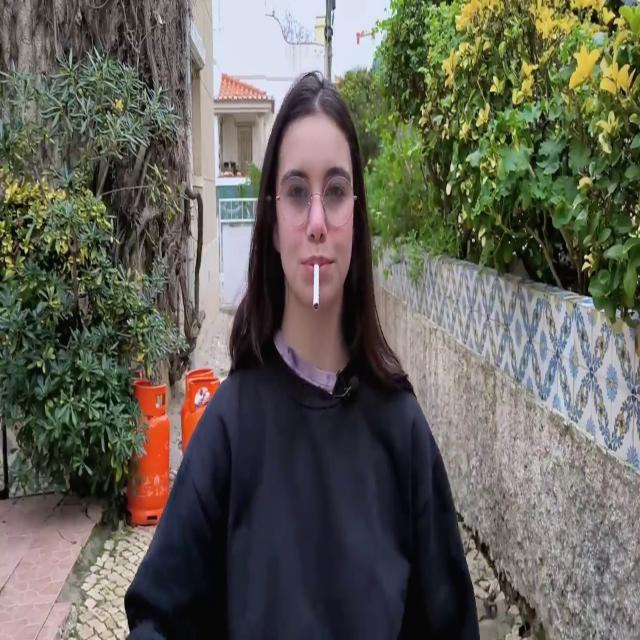Smooking: (306, 253, 330, 317)
